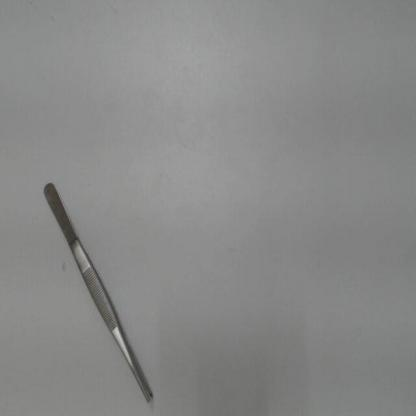Gillies Toothed Dissector: (32, 167, 160, 411)
